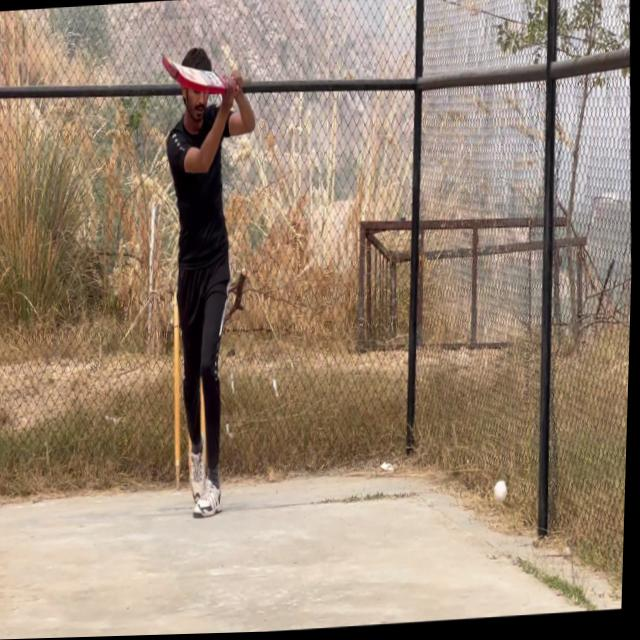Batsman: (151, 28, 264, 534)
